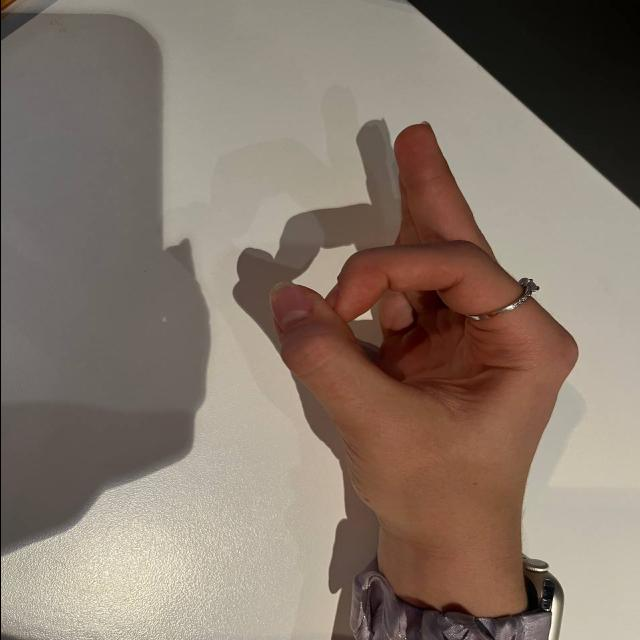o: (228, 121, 592, 509)
